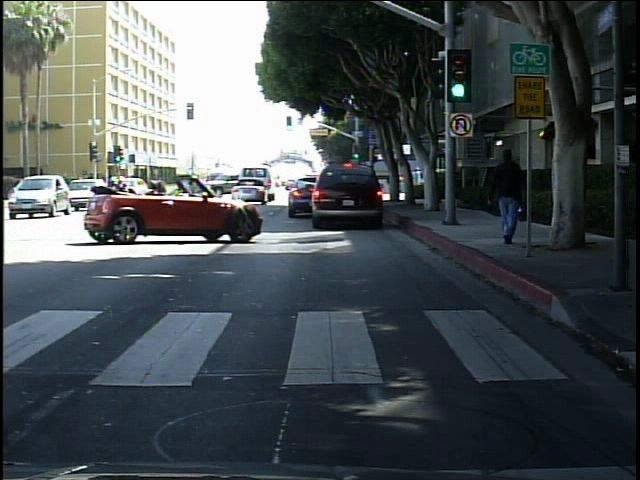person: (487, 136, 531, 246), (502, 148, 527, 229)
